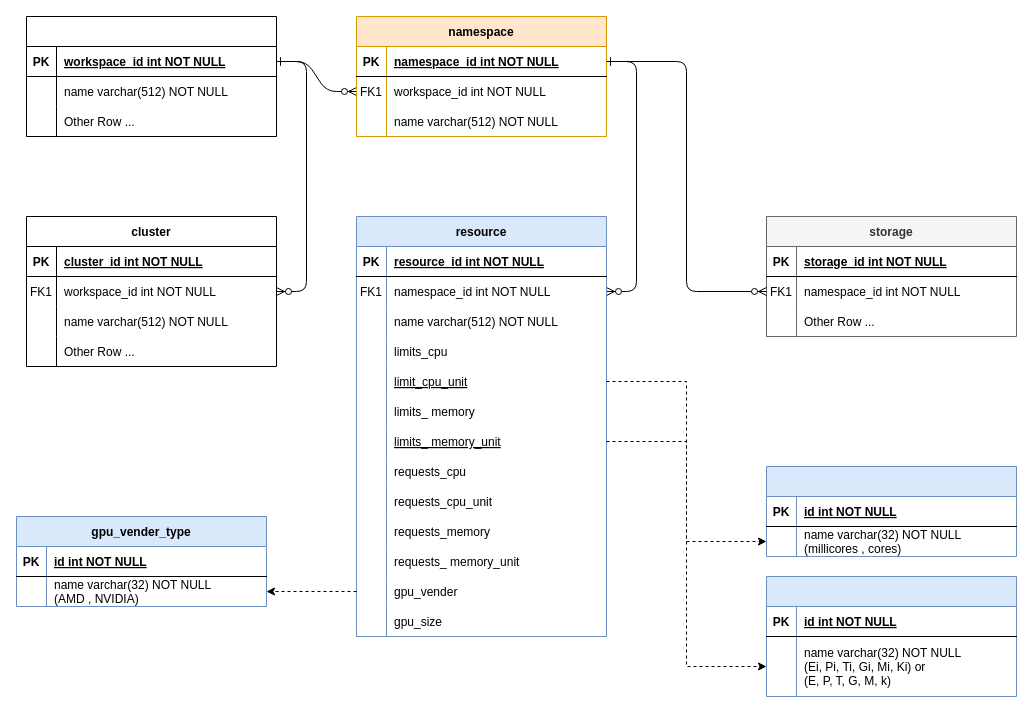
This 1033x713 diagram has some shape labels left out. Each missing label, with the box of its shape:
cpu_unit_type: (766, 466, 1016, 556)
memory_unit_type: (766, 576, 1016, 696)
mgmt_workspace: (26, 16, 276, 136)
